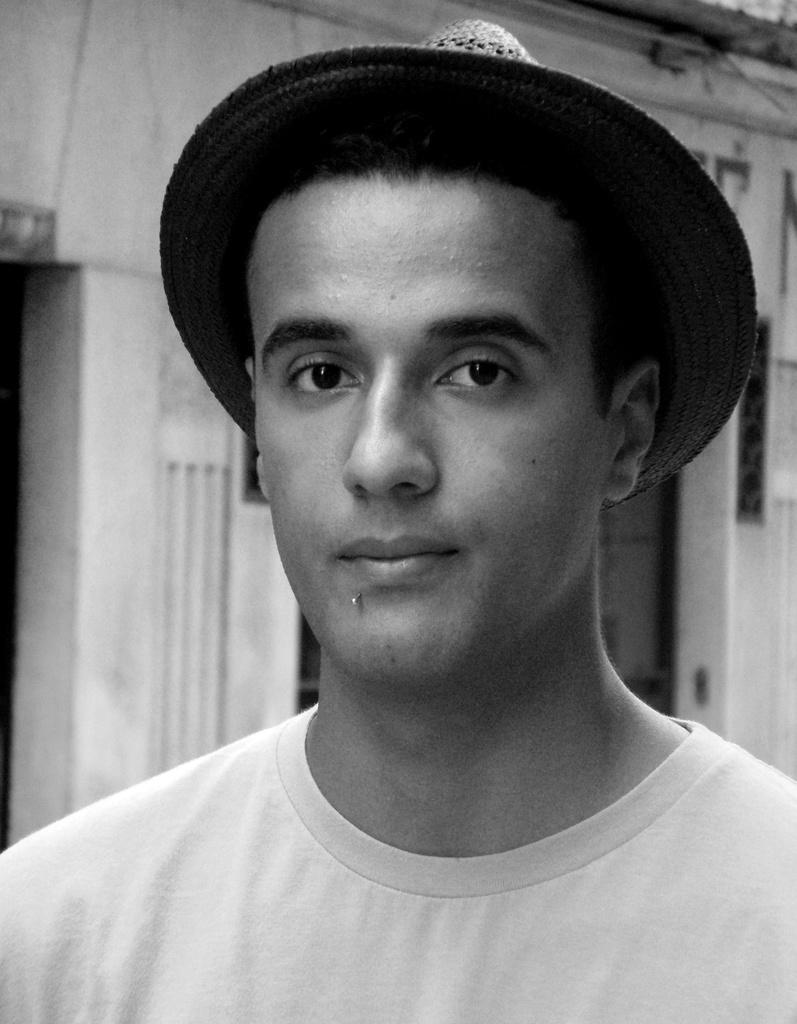Hat: (155, 16, 760, 513)
